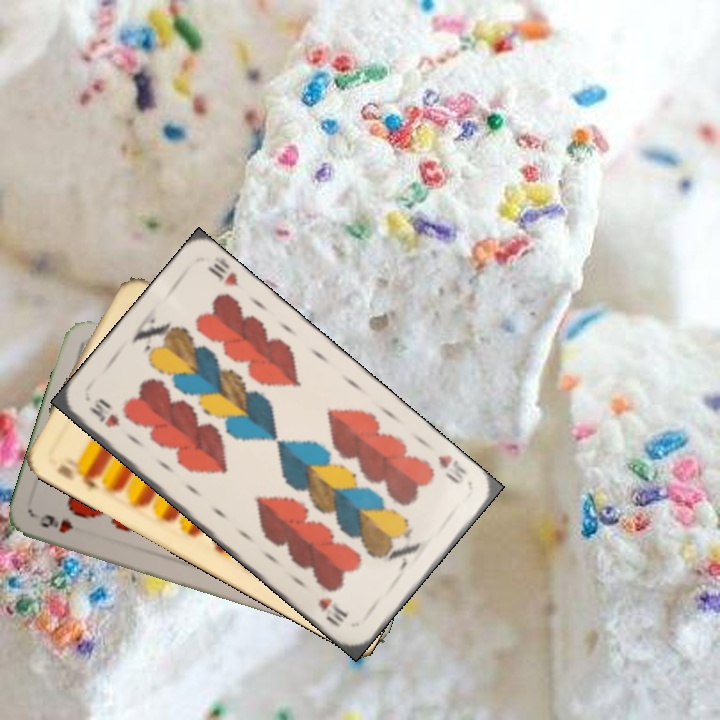E10: (52, 460, 104, 493)
H10: (86, 395, 123, 431), (434, 450, 469, 487)
H9: (36, 510, 76, 536)
